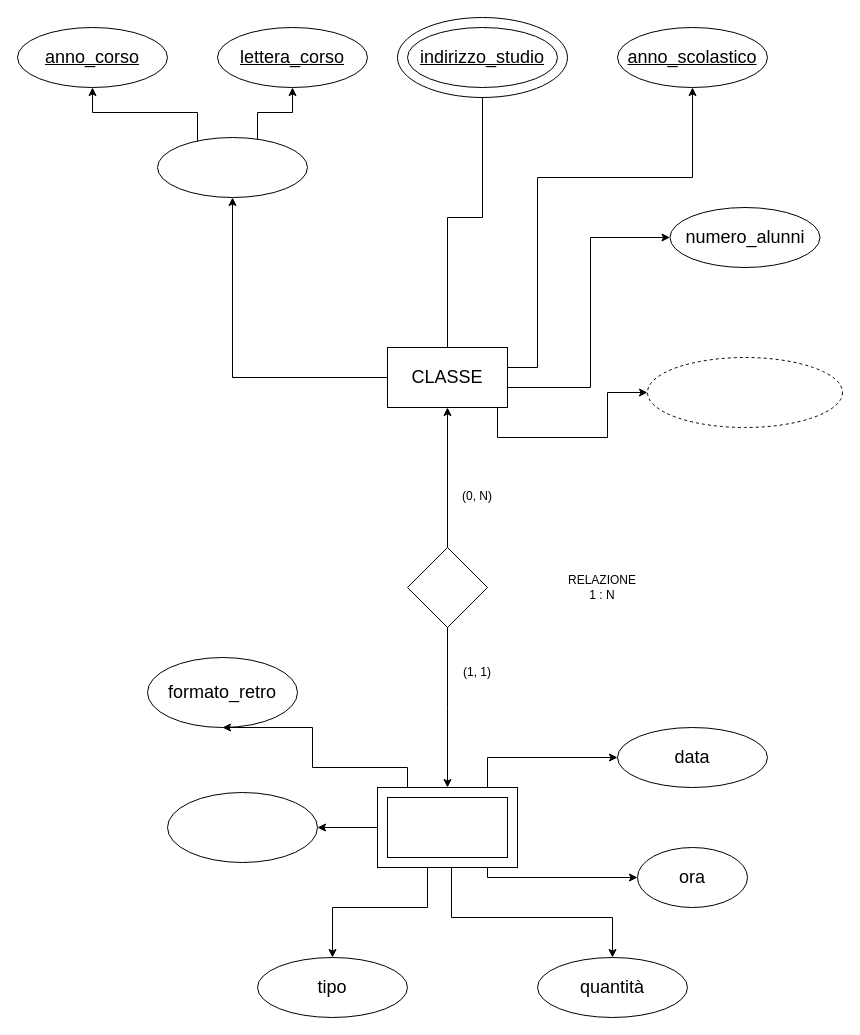
Image size: 860x1035. Some labels were removed from this diagram. Each missing label, with the centre of its shape:
fa: (447,587)
formato: (242,827)
FOTOCOPIE: (447,827)
num_fotocopie_totali: (744,392)
sezione: (232,167)
